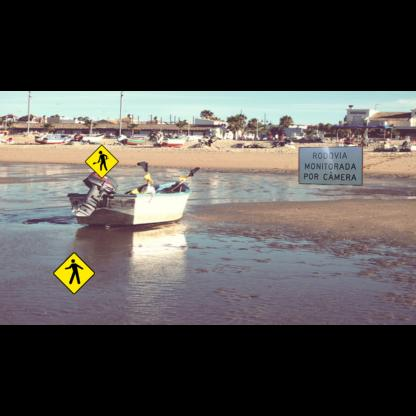A-24: (84, 144, 119, 179)
A-32a: (53, 252, 95, 295)
I-E: (298, 145, 363, 186)
